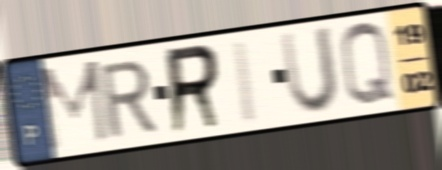I: (230, 36, 261, 127)
M: (37, 56, 112, 154)
Q: (337, 20, 398, 111)
R: (163, 40, 225, 139), (97, 56, 160, 142)
U: (277, 23, 341, 118)
